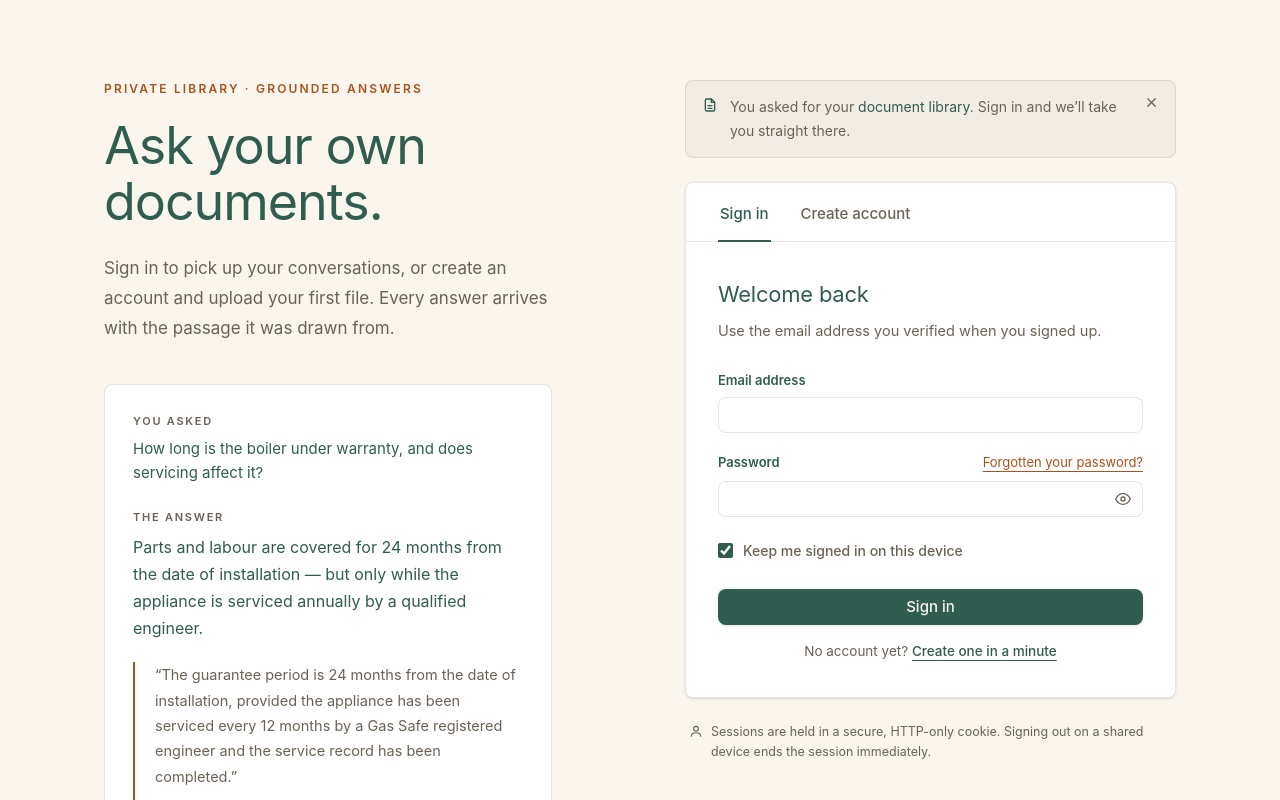
Signin - sign in tab › offers the empty chat screen when there is no most-recent conversation
Step 1. Type "new@example.com" into the field labelled "Email address" → [930, 415], box [718, 397, 1143, 433]
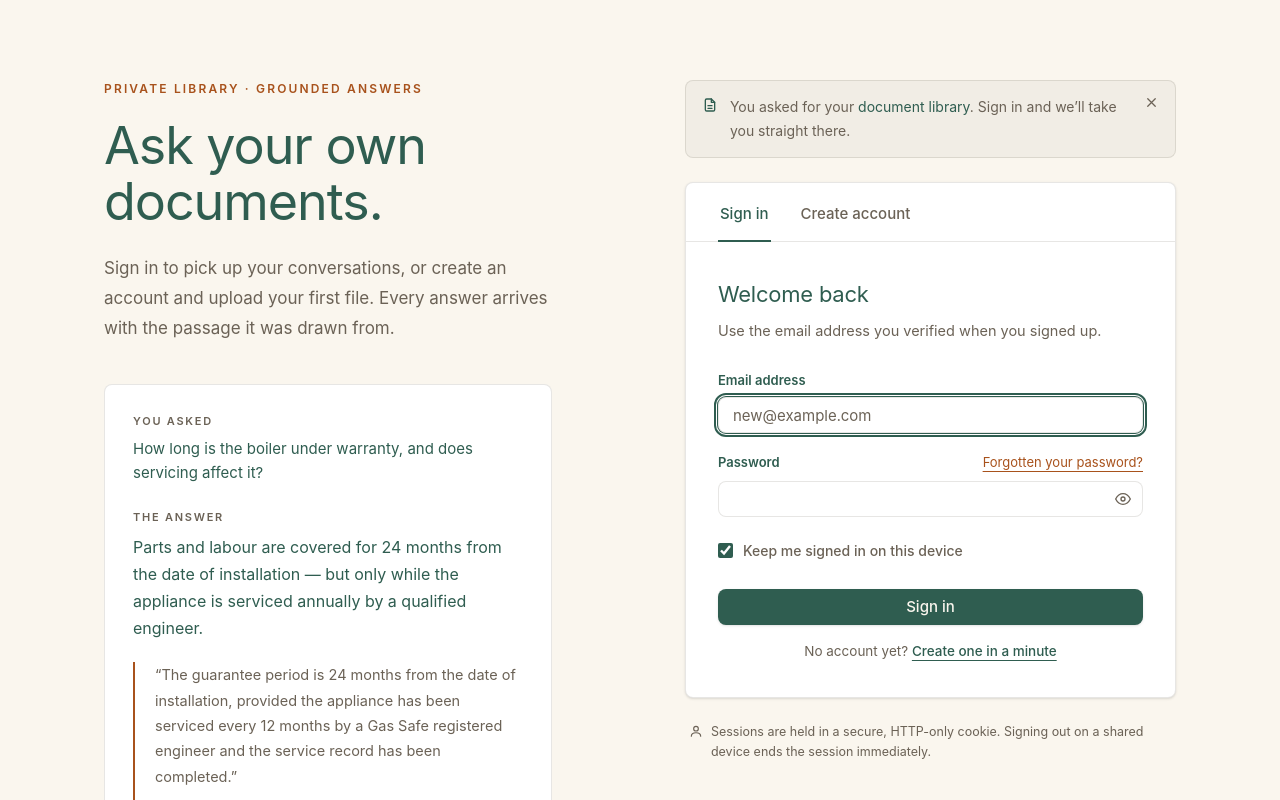
Step 2. Type "whatever-123" into the password field labelled "Password" → [930, 499], box [718, 481, 1143, 517]
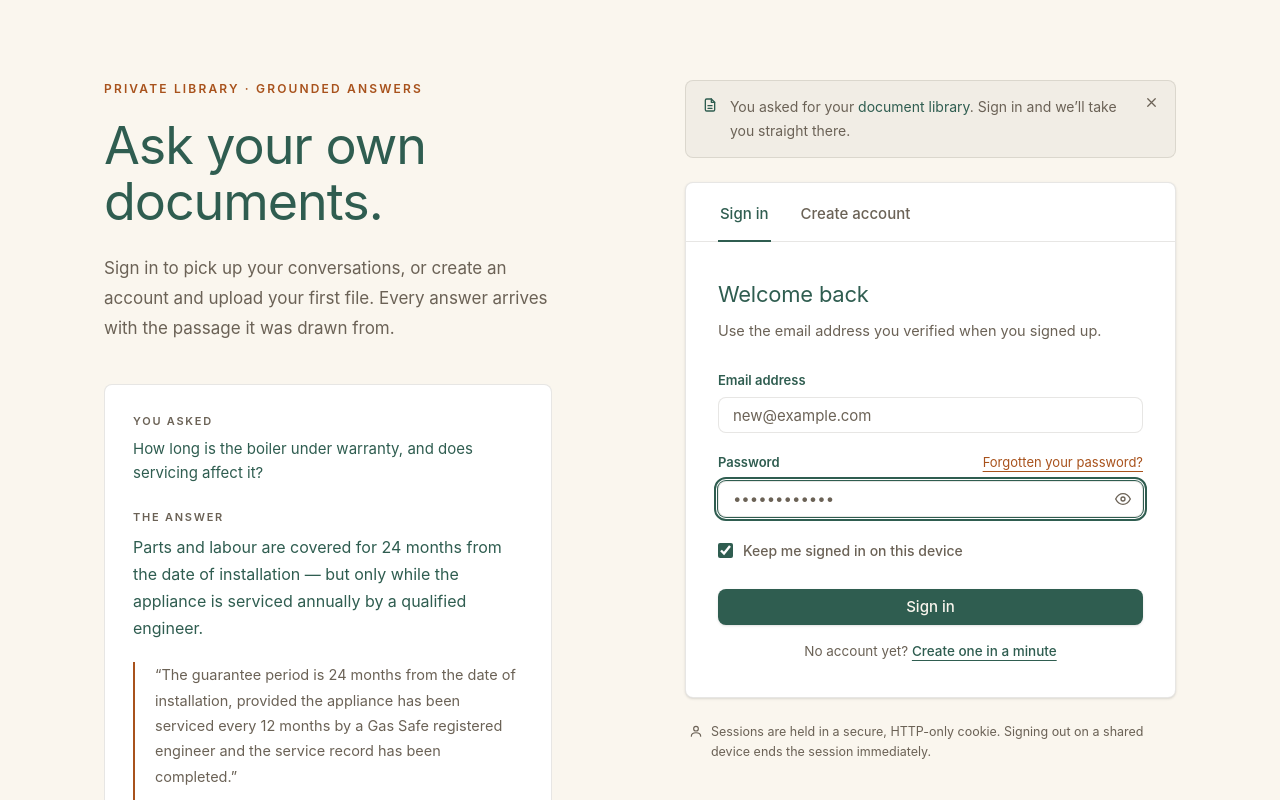
Step 3. Click the button "Sign in" → [930, 607], box [718, 589, 1143, 625]
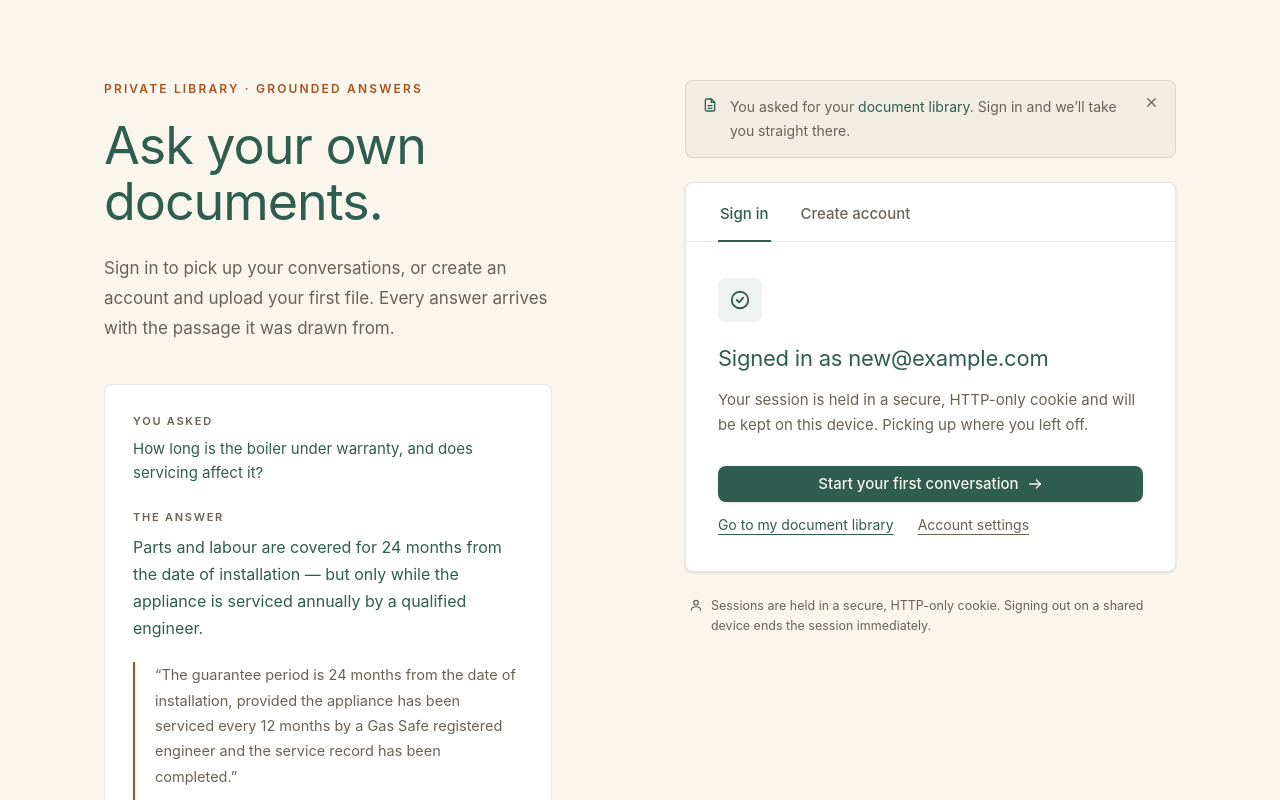
Expected: the button "Start your first conversation" is shown, [718, 466, 1143, 502]
